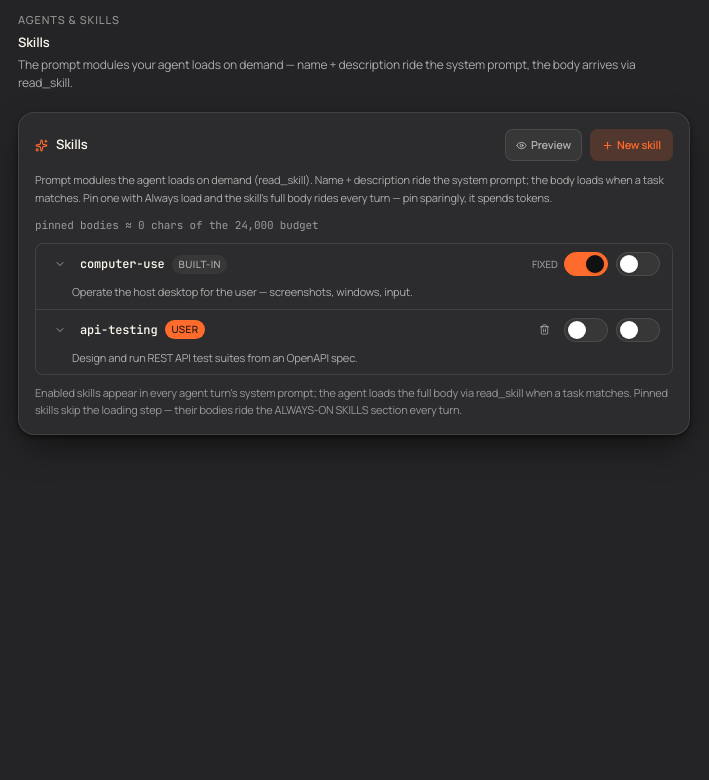
SkillsTab (ROUND-61 R61-2-a) › shows the built-in note inside the expanded editor
The image size is (709, 780).
Expected: the text "computer-use" is shown, [80,255,164,273]
Click the button named "Expand skill computer-use": (60, 264) [48,252,72,276]
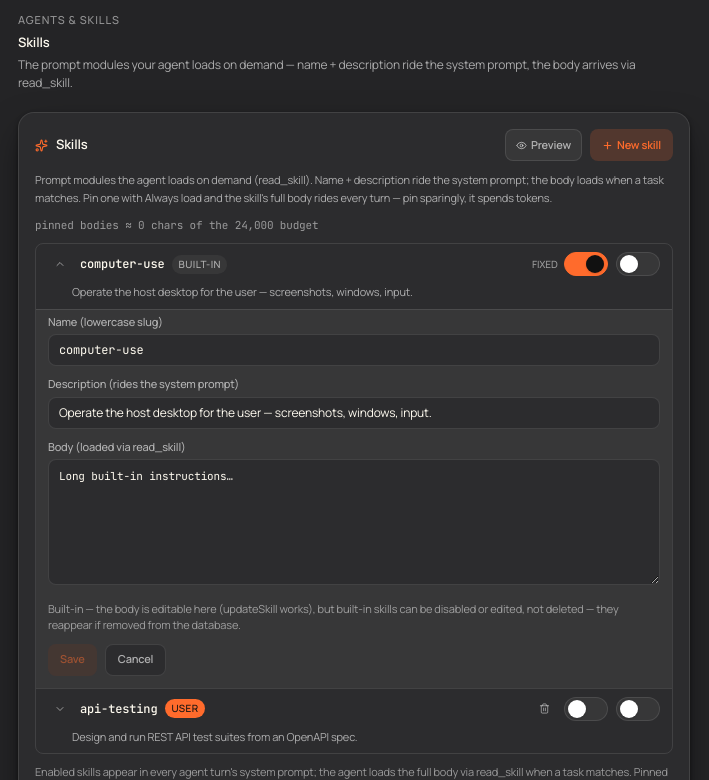
Result: the text with test id "builtin-note" shows "built-in skills can be disabled or edited, not deleted" at [48,600,619,632]
Result: the text box named "Edit body for skill computer-use" is shown at [48,459,660,585]
